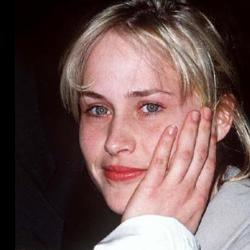face: (47, 4, 246, 218)
